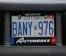6: (49, 20, 54, 35)
7: (43, 20, 48, 36)
9: (38, 20, 44, 36)
A: (18, 20, 22, 36)
B: (13, 21, 18, 36)
N: (22, 21, 27, 35)
Y: (27, 20, 33, 36)
